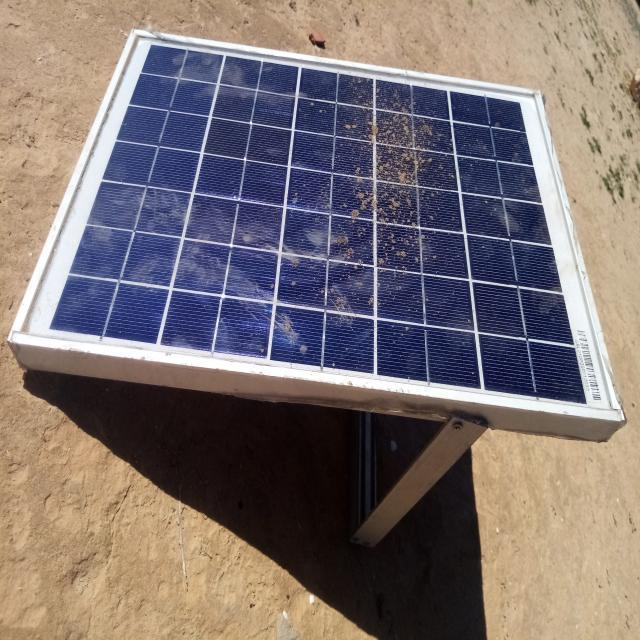faulty: (14, 32, 623, 415)
